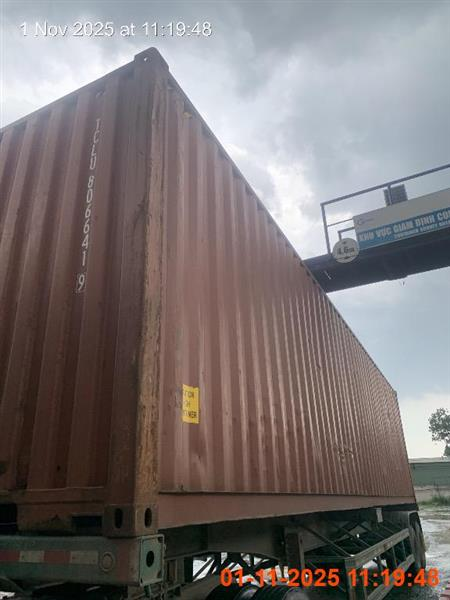broken: (1, 46, 442, 599)
